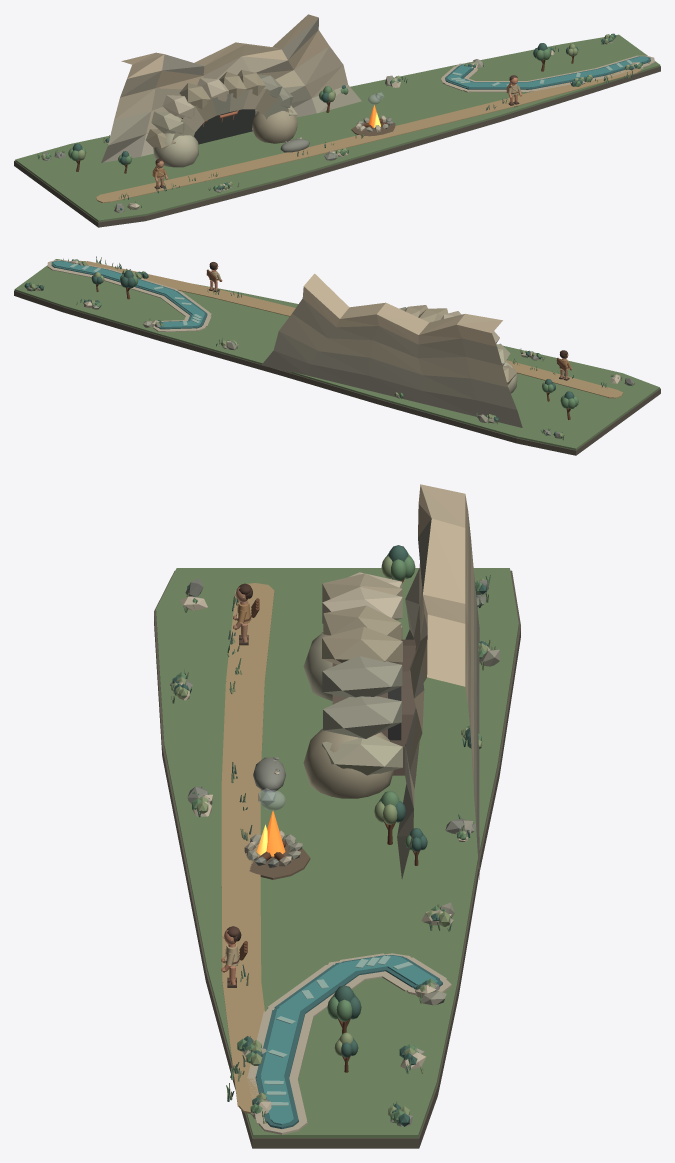
File: vezere.glb
3 renders of one model, top to bottom at view 1: azimuth 30°, elevation 25°; view 2: azimuth 150°, elevation 25°; view 3: azimuth 270°, elevation 25°, orthographic. The views are drawn at different scales.
Parts seen in each view (by area): view 1: TerrainAndBuildings; view 2: TerrainAndBuildings; view 3: TerrainAndBuildings.
Boxes of the visible parts, x1,y1,x2,y2 form: TerrainAndBuildings: (14, 14, 660, 227); TerrainAndBuildings: (14, 256, 660, 455); TerrainAndBuildings: (154, 484, 520, 1148).
Size of the model in its own units: 1.73 by 0.2818 by 0.4717.
